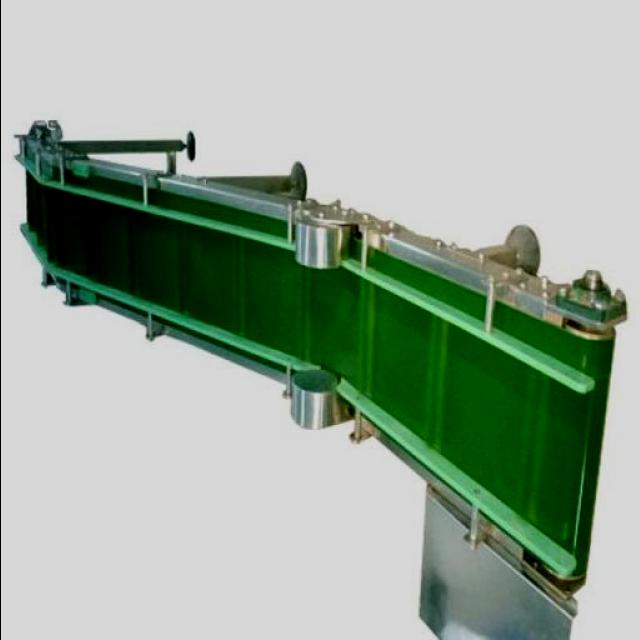conveyor: (21, 146, 606, 591)
